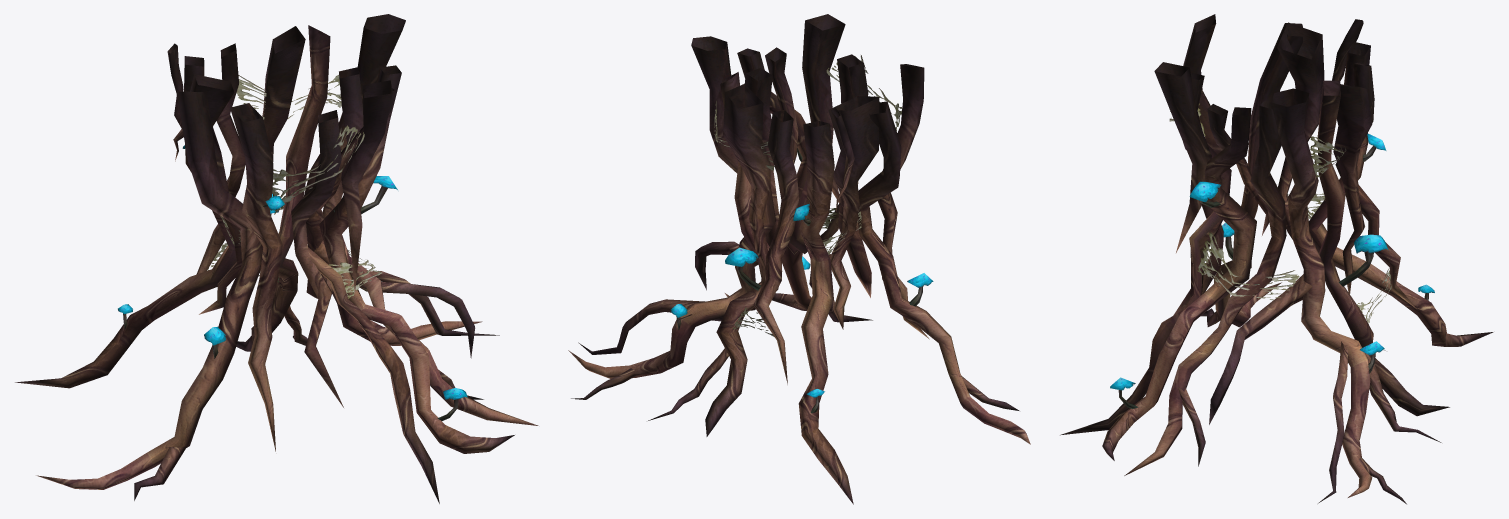
The model's file is cave_vine_01.fbx.
3 renders of one model, left to right at view 1: azimuth 30°, elevation 25°; view 2: azimuth 150°, elevation 25°; view 3: azimuth 270°, elevation 25°, orthographic. The views are drawn at different scales.
Visible parts, largest first — view 1: cave_vine_01_mat; view 2: cave_vine_01_mat; view 3: cave_vine_01_mat.
Boxes of the visible parts, <box> form: cave_vine_01_mat: <box>15,14,538,503</box>; cave_vine_01_mat: <box>568,14,1030,504</box>; cave_vine_01_mat: <box>1060,14,1493,504</box>.
Size of the model in its own units: 33.05 by 24.67 by 26.38.
